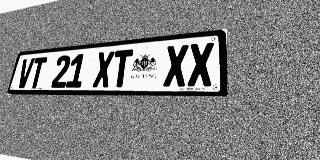1: (65, 53, 87, 88)
2: (51, 55, 72, 88)
T: (110, 49, 133, 87), (28, 57, 48, 88)
V: (16, 58, 35, 88)
X: (187, 42, 214, 86), (163, 44, 189, 87), (92, 51, 115, 87)
